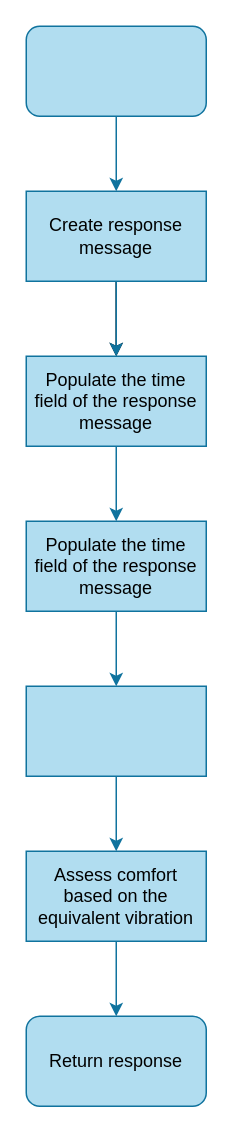
The diagram is 233 pixels wide and 1133 high, and some of its shapes have lost their labels. Each missing label, with the centre of its shape:
"Calculate equivalent vibration for the input z time series" goes at [115,730].
"Receive request" goes at [115,70].
